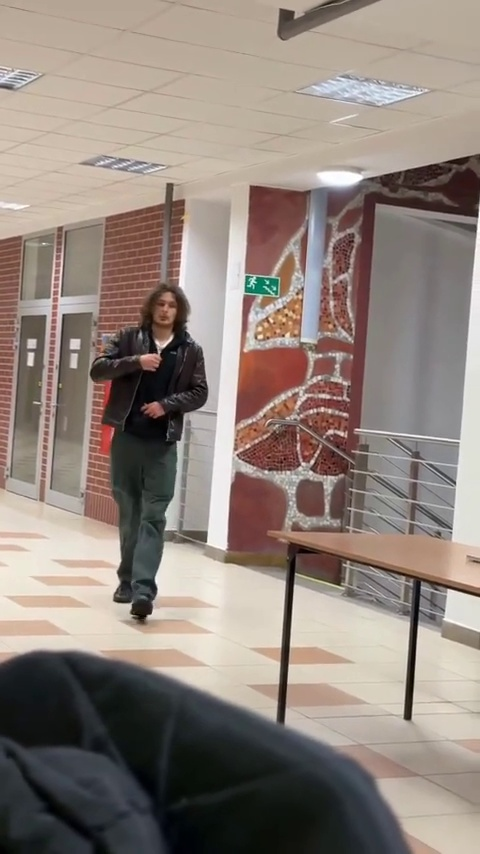no vest: (95, 284, 214, 624)
